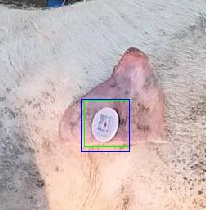text: (84, 100, 129, 146)
